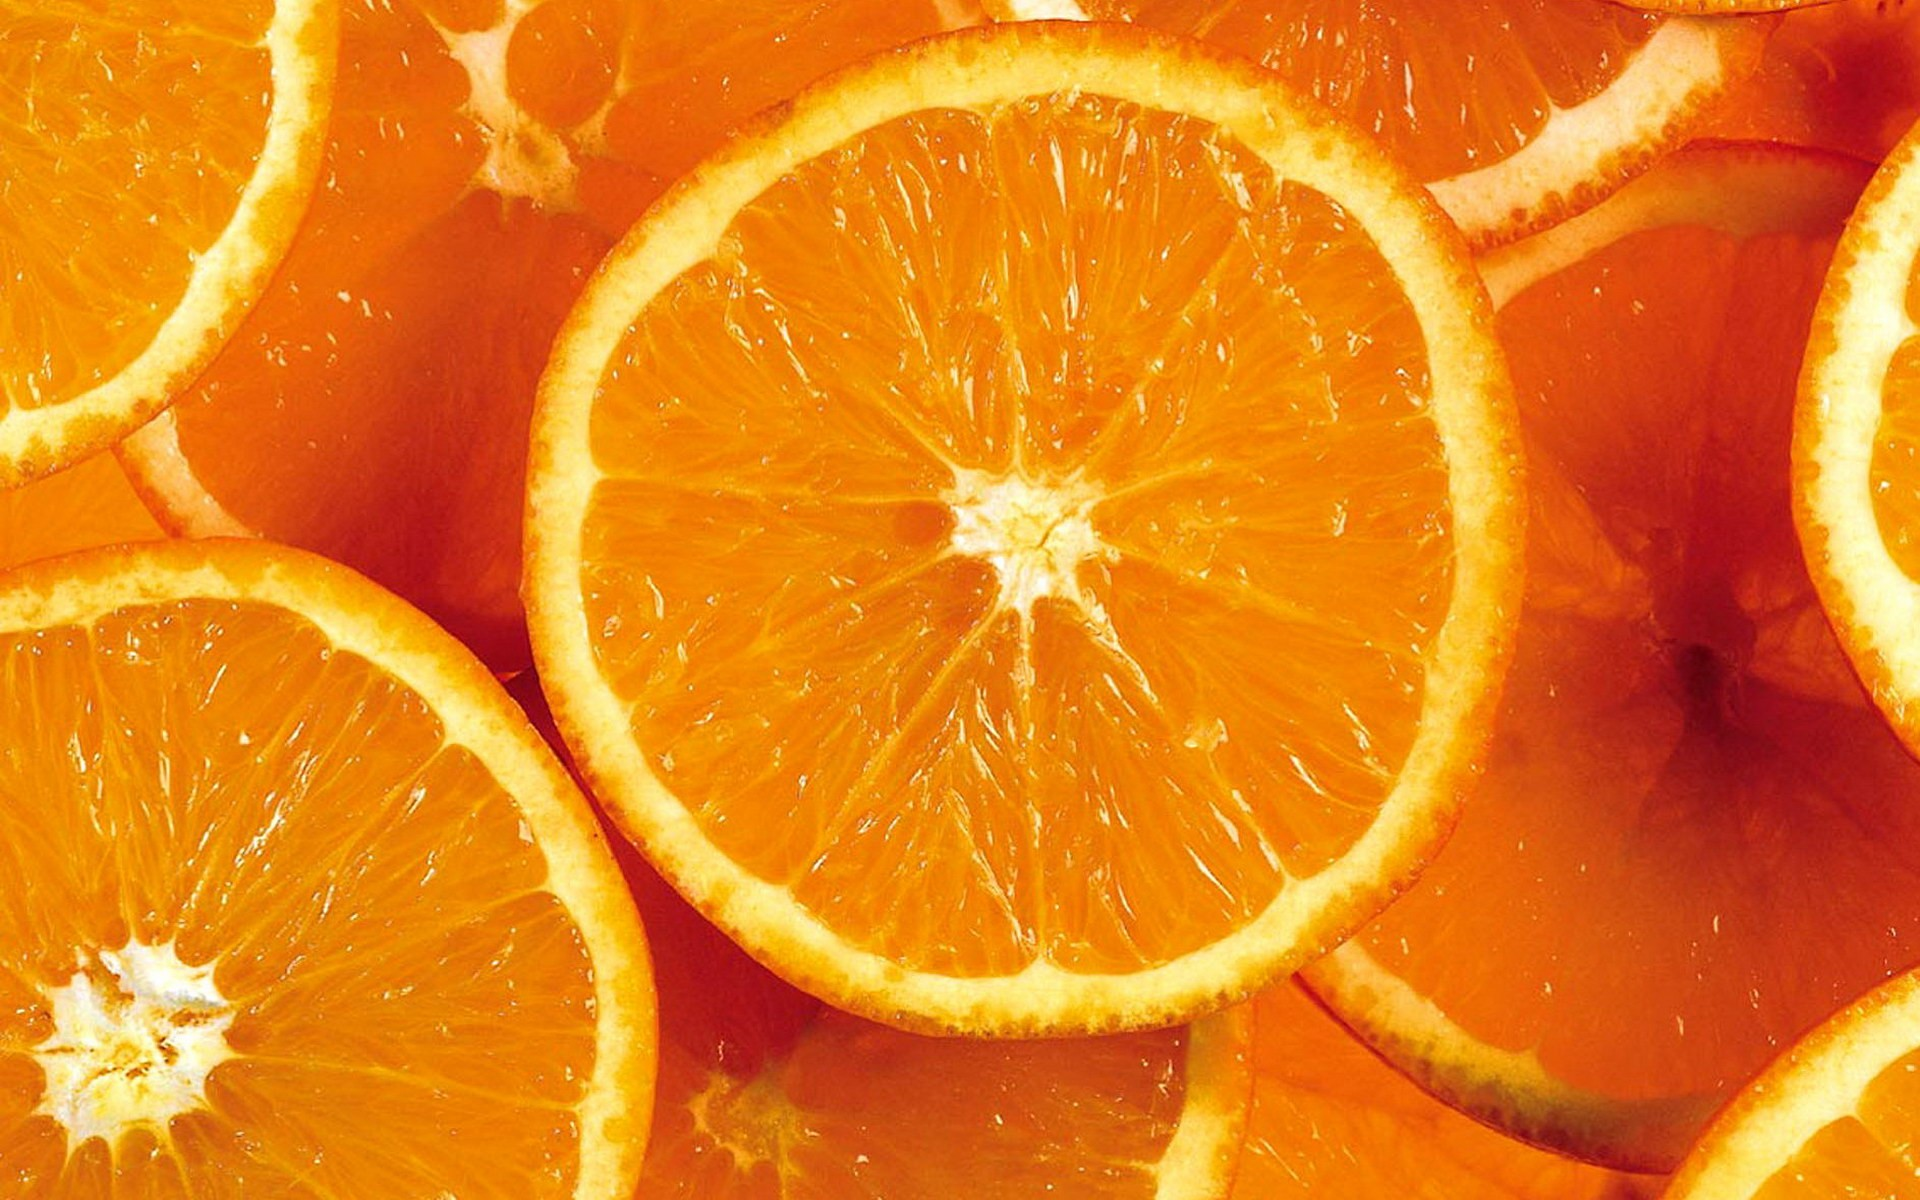orange: (491, 17, 1541, 993), (33, 512, 762, 1185)
